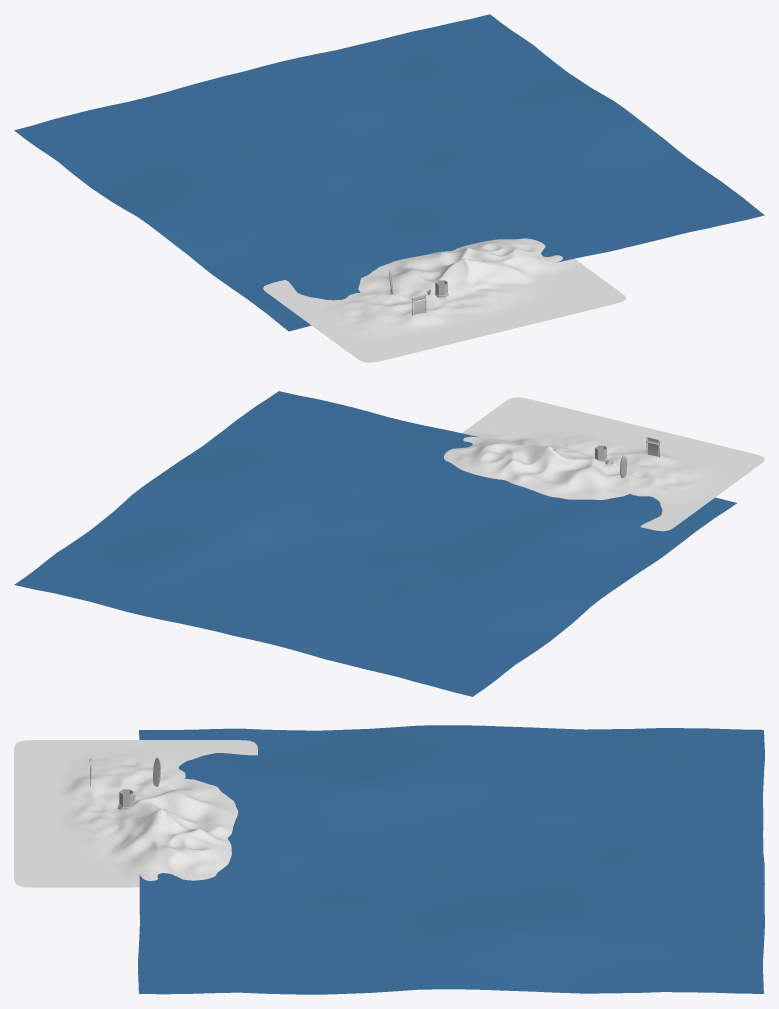
Rendered from AvatarScenario.fbx.
3 renders of one model, top to bottom at view 1: azimuth 30°, elevation 25°; view 2: azimuth 150°, elevation 25°; view 3: azimuth 270°, elevation 25°, orthographic. The views are drawn at different scales.
Parts seen in each view (by area): view 1: Cube, Sand; view 2: Cube, Sand; view 3: Cube, Sand.
Part boxes in pixels (left/top/right/bottom): Cube: left=14, top=14, right=764, bottom=331; Sand: left=263, top=238, right=626, bottom=362; Cube: left=14, top=391, right=736, bottom=696; Sand: left=444, top=397, right=764, bottom=531; Cube: left=138, top=725, right=764, bottom=994; Sand: left=14, top=740, right=257, bottom=887.
Size of the model in its own units: 3602 by 216 by 4306.
